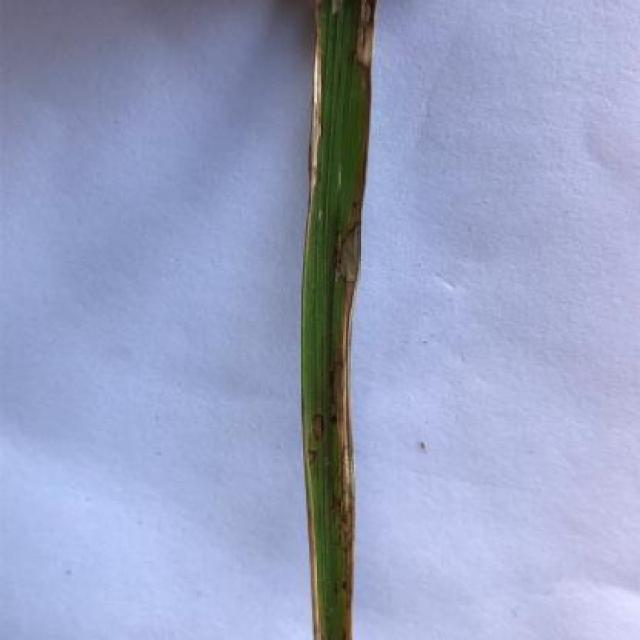Brown_Spot: (296, 0, 378, 640)
